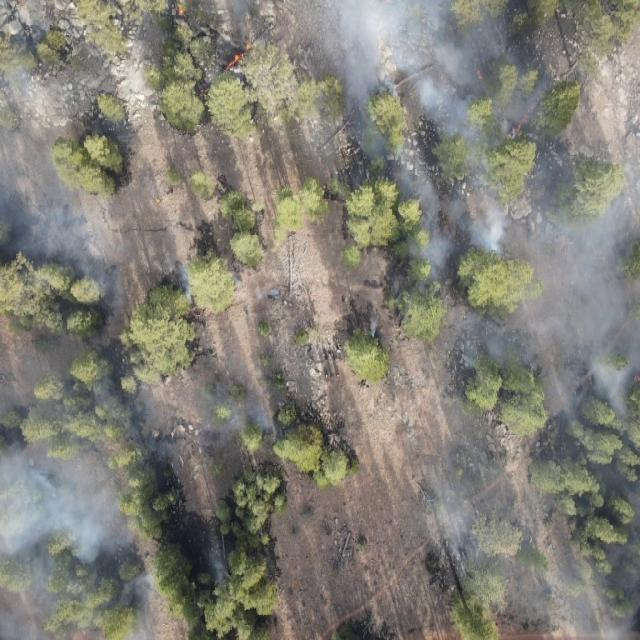fire: (224, 38, 257, 72), (508, 106, 538, 139), (472, 66, 486, 86), (174, 4, 188, 20), (631, 370, 640, 384)
smoke: (304, 0, 578, 276), (455, 181, 640, 459), (0, 381, 181, 640), (416, 477, 640, 640), (0, 59, 134, 314), (194, 387, 282, 451), (374, 267, 442, 295), (164, 256, 194, 309), (206, 544, 236, 592), (221, 0, 255, 38), (248, 278, 284, 312), (361, 313, 386, 342)
